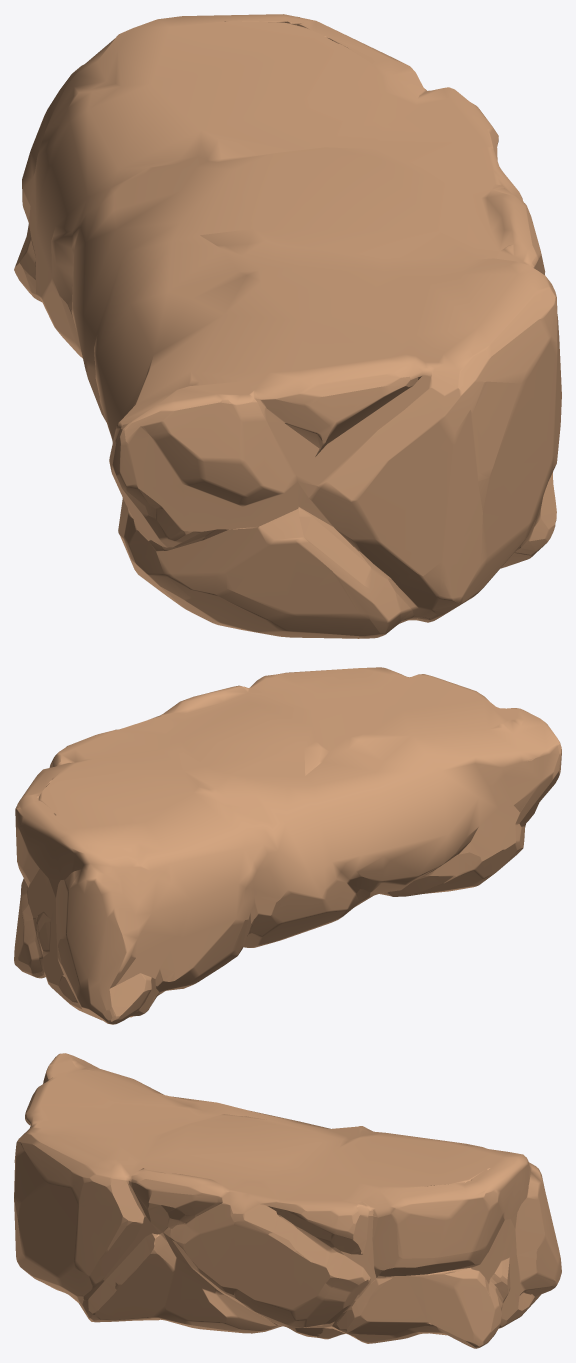
The picture shows the model from 3 angles, top to bottom: view 1: azimuth 30°, elevation 25°; view 2: azimuth 150°, elevation 25°; view 3: azimuth 270°, elevation 25°; orthographic projection. The views are drawn at different scales.
Parts seen in each view (by area): view 1: Mesh_44_LOD0; view 2: Mesh_44_LOD0; view 3: Mesh_44_LOD0.
Part boxes in pixels (x1,y1,x2,y2): Mesh_44_LOD0: (14, 14, 561, 638); Mesh_44_LOD0: (14, 667, 561, 1024); Mesh_44_LOD0: (14, 1053, 561, 1348).
Size of what is drawn, in the model's own units: 2352 by 1103 by 3193.
